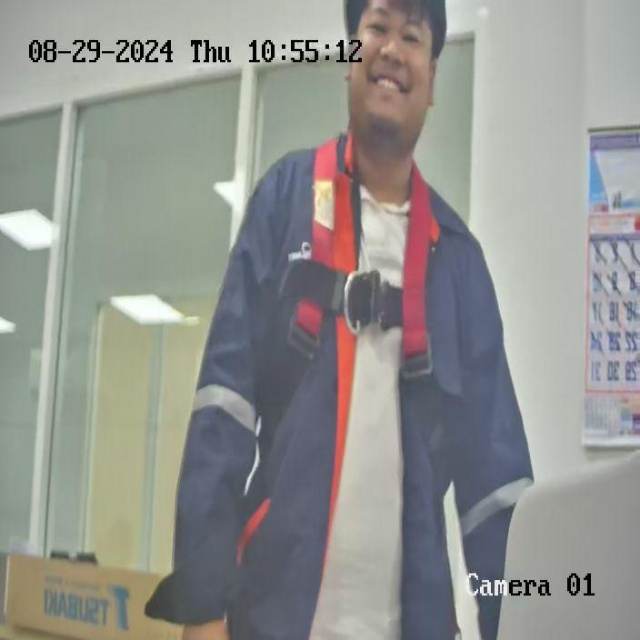Arnes_seguridad: (259, 132, 453, 492)
